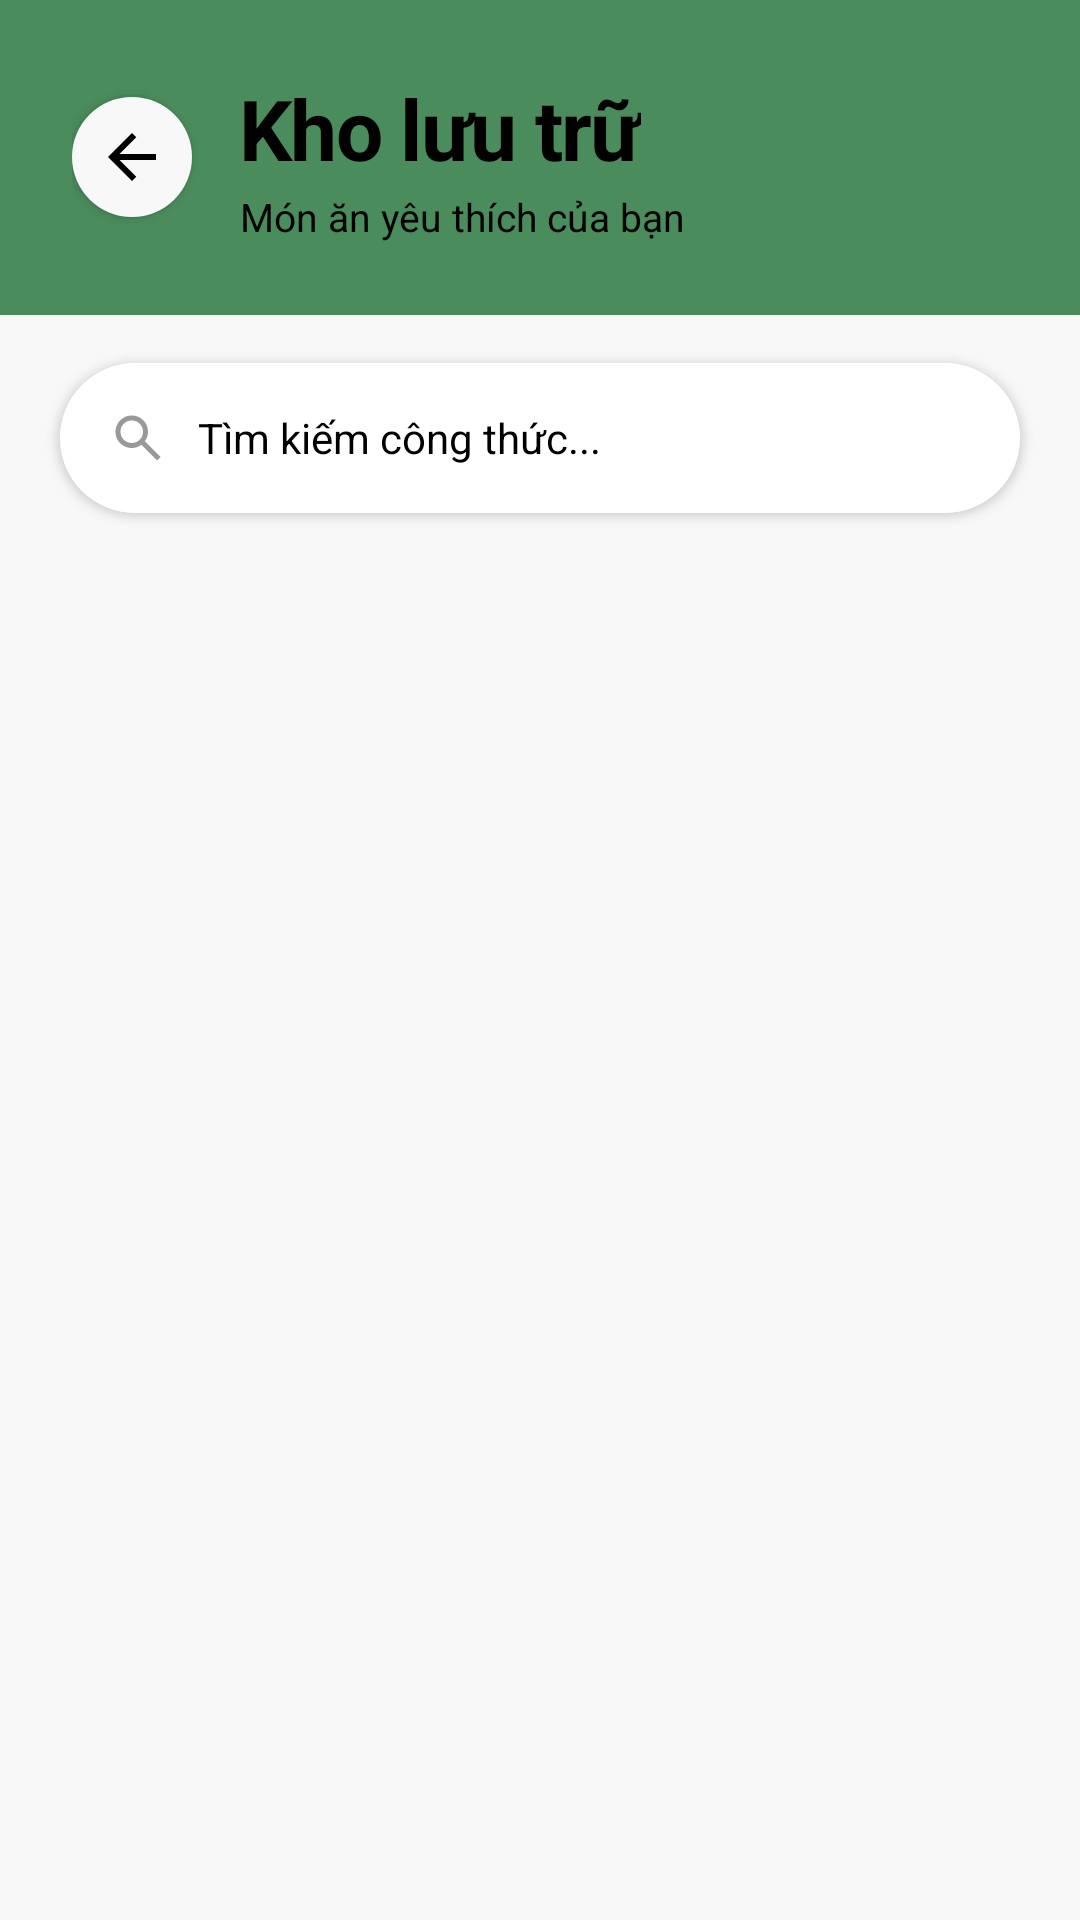

Icon bounding boxes for this 1080*1920 phone screenshot, format (x1, y1, x2, y2):
arrow back: (72, 97, 192, 217)
search: (115, 415, 160, 460)
